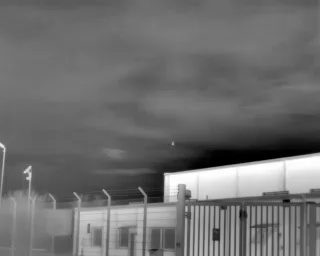HELICOPTER: (169, 138, 178, 149)
